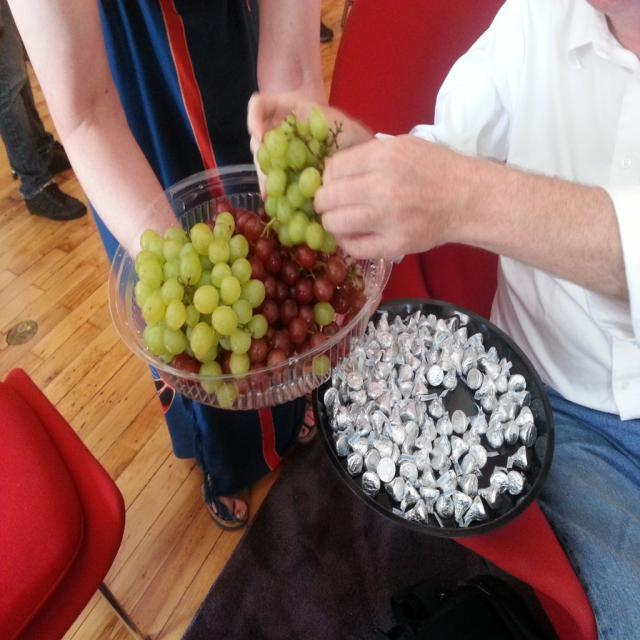Non_Gorille: (2, 0, 640, 639)
